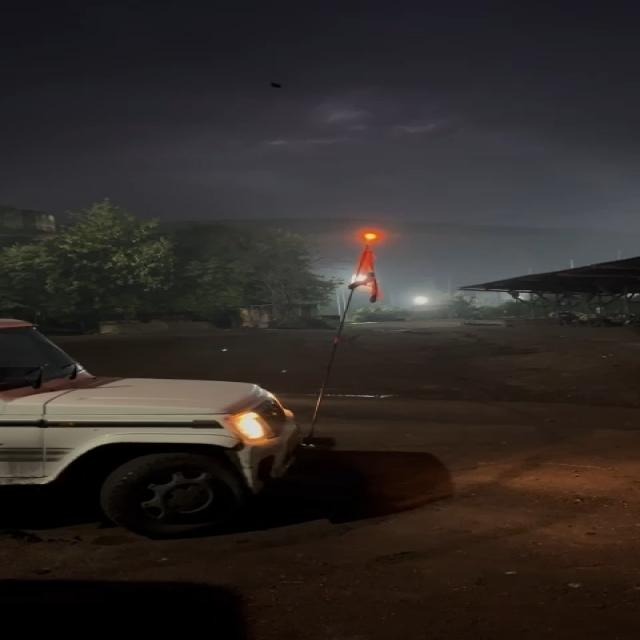light_vehicle: (0, 320, 286, 531)
